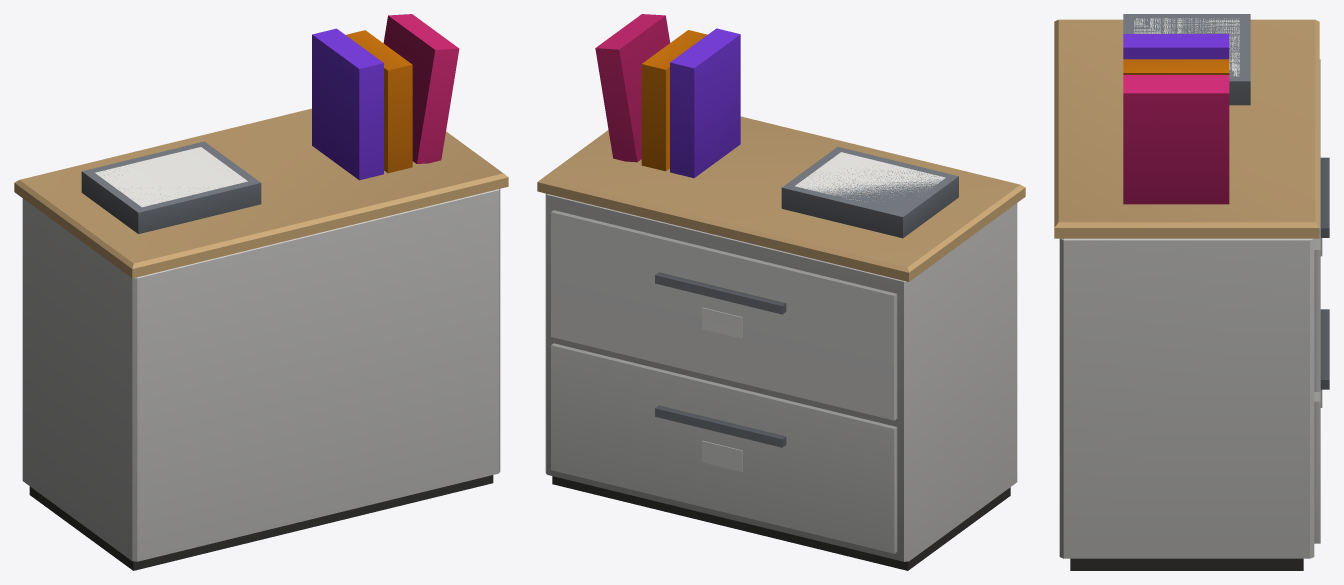
File: cabinet_file_02.glb
3 views of the same model, side by side, from view 1: azimuth 30°, elevation 25°; view 2: azimuth 150°, elevation 25°; view 3: azimuth 270°, elevation 25° (orthographic). The views are drawn at different scales.
Visible parts, largest first — view 1: cabinet_file_02_mesh; view 2: cabinet_file_02_mesh; view 3: cabinet_file_02_mesh.
Boxes of the visible parts, x1=… form: cabinet_file_02_mesh: x1=14, y1=14, x2=508, y2=570; cabinet_file_02_mesh: x1=537, y1=14, x2=1025, y2=570; cabinet_file_02_mesh: x1=1054, y1=14, x2=1329, y2=570.
Bounding box in the file's own units: 0.92 × 0.9913 × 0.5191.
Materials: 1 (1 with a texture image).
